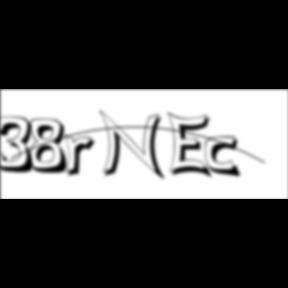3: (0, 116, 40, 176)
8: (30, 117, 74, 176)
E: (168, 110, 216, 182)
N: (99, 109, 169, 183)
c: (205, 136, 245, 180)
r: (64, 134, 102, 180)
